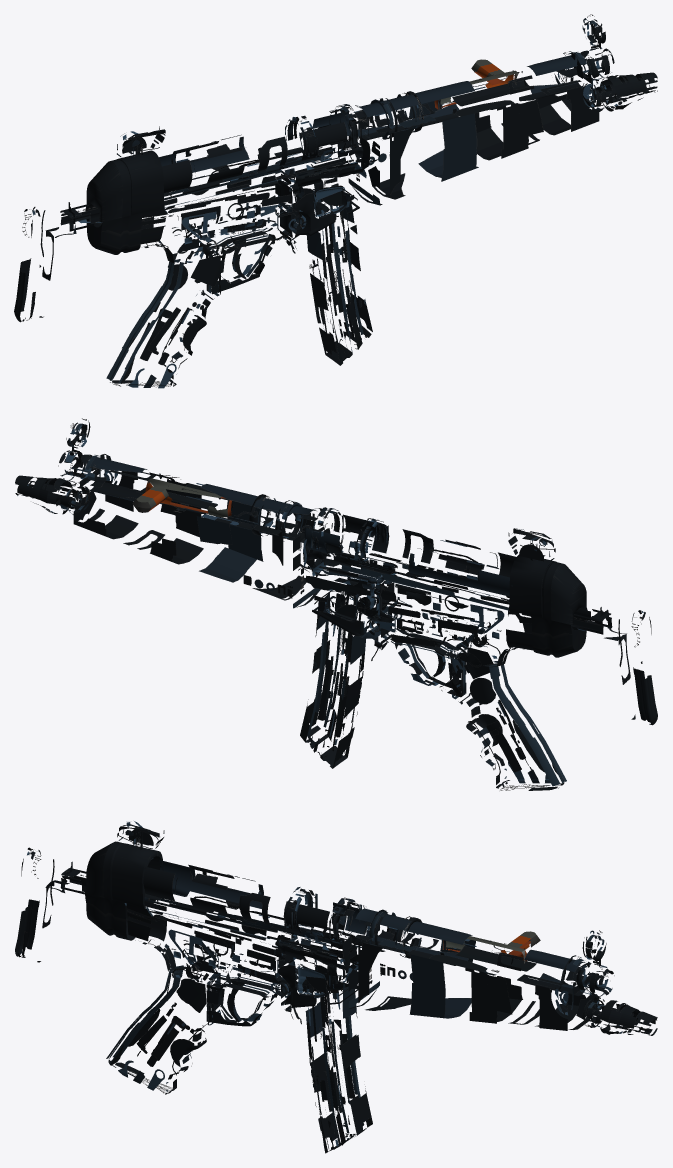
The picture shows the model from 3 angles, top to bottom: view 1: azimuth 30°, elevation 25°; view 2: azimuth 150°, elevation 25°; view 3: azimuth 330°, elevation 25°; orthographic projection.
Visible parts, largest first — view 1: trigger box, frontGrip, chamber, back stock, Mag, clip holder, front sight, backstock2, camber release, metal ring 2, Metal ring1, iron sight; view 2: trigger box, frontGrip, chamber, back stock, Mag, clip holder, front sight, backstock2, camber release, metal ring 2, Metal ring1, iron sight; view 3: chamber, trigger box, frontGrip, Mag, back stock, front sight, clip holder, backstock2, camber release, metal ring 2, Metal ring1, iron sight.
Boxes of the visible parts, x1,y1,x2,y2 form: trigger box: (106,169,306,388); frontGrip: (348,51,599,205); chamber: (159,54,586,209); back stock: (85,150,164,254); Mag: (306,183,372,365); clip holder: (277,157,366,253); front sight: (580,14,657,111); backstock2: (14,202,102,322); camber release: (434,59,534,113); metal ring 2: (285,104,361,157); Metal ring1: (369,91,423,139); iron sight: (117,126,165,157); trigger box: (366,572,566,790); frontGrip: (73,454,324,608); chamber: (86,457,515,610); back stock: (508,554,587,657); Mag: (300,590,366,768); clip holder: (305,562,394,660); front sight: (15,418,96,514); backstock2: (571,607,657,725); camber release: (132,472,232,517); metal ring 2: (311,507,388,558); Metal ring1: (249,494,304,541); iron sight: (508,528,555,561); chamber: (143,858,585,996); trigger box: (106,898,298,1094); frontGrip: (348,924,599,1030); Mag: (303,975,372,1153); back stock: (85,841,163,940); front sight: (576,930,657,1035); clip holder: (277,943,358,1024); backstock2: (15,847,126,962); camber release: (440,931,540,970); metal ring 2: (284,887,361,940); Metal ring1: (368,909,421,958); iron sight: (117,821,164,849).
Bounding box in the file's own units: 3490 × 1470 × 407.
